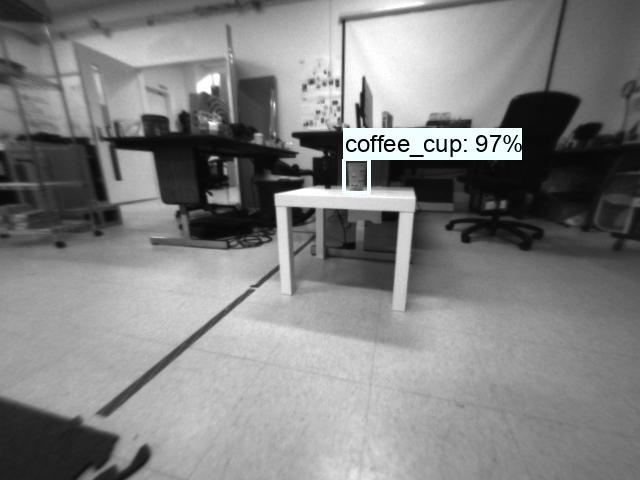coffee_cup: (344, 161, 369, 193)
